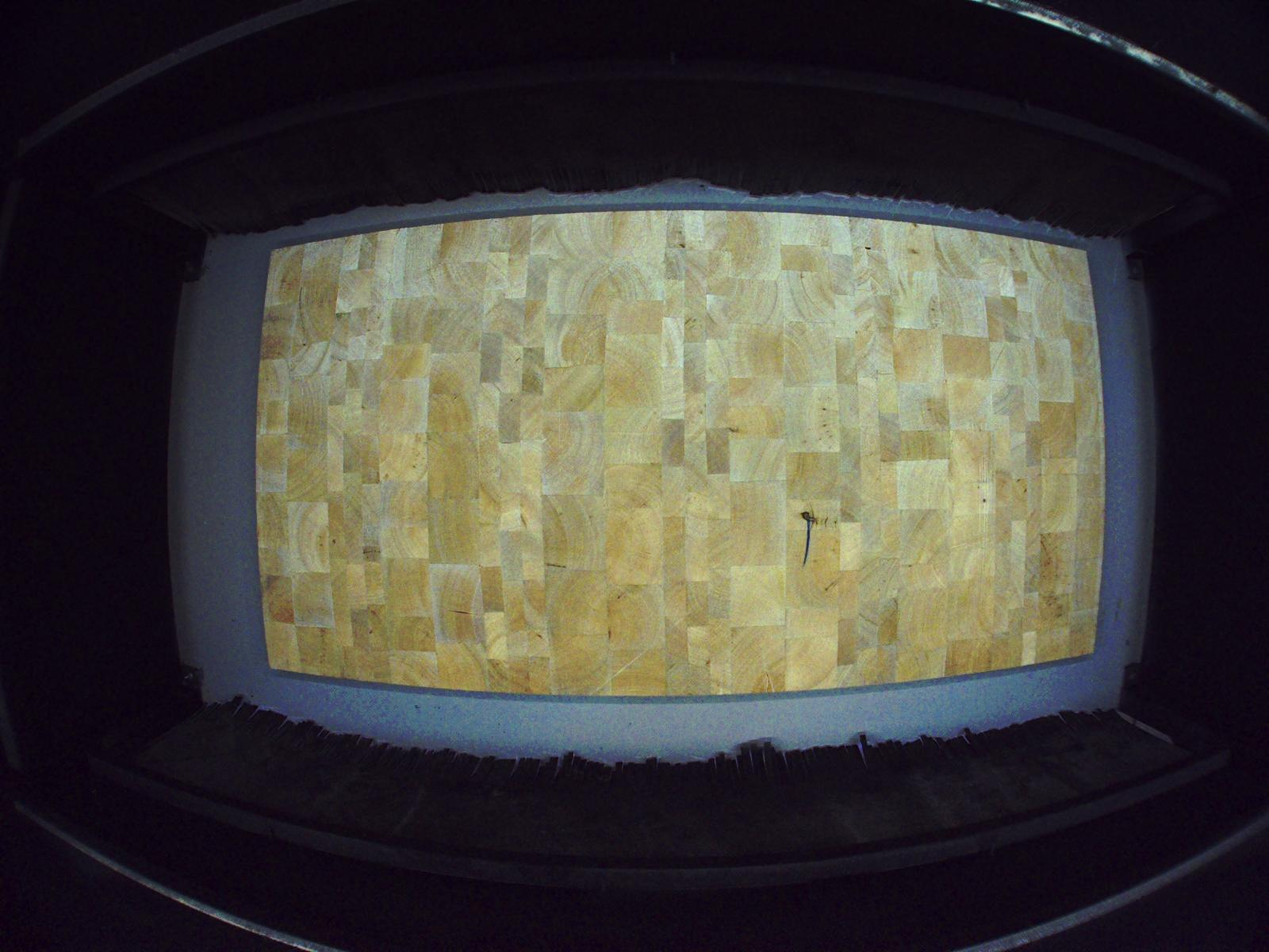sheck_ecuatoriano: (800, 501, 819, 530)
